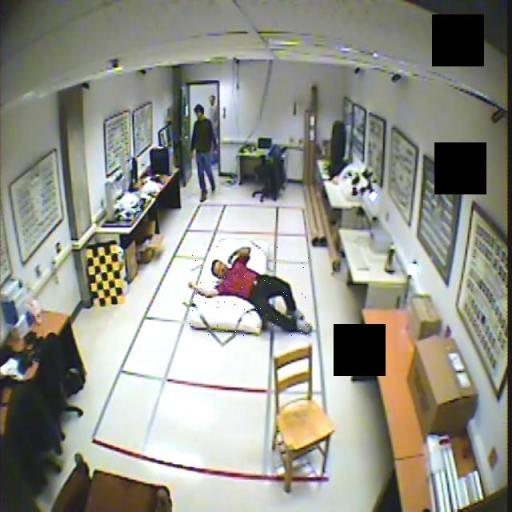Fall: (187, 246, 311, 336)
